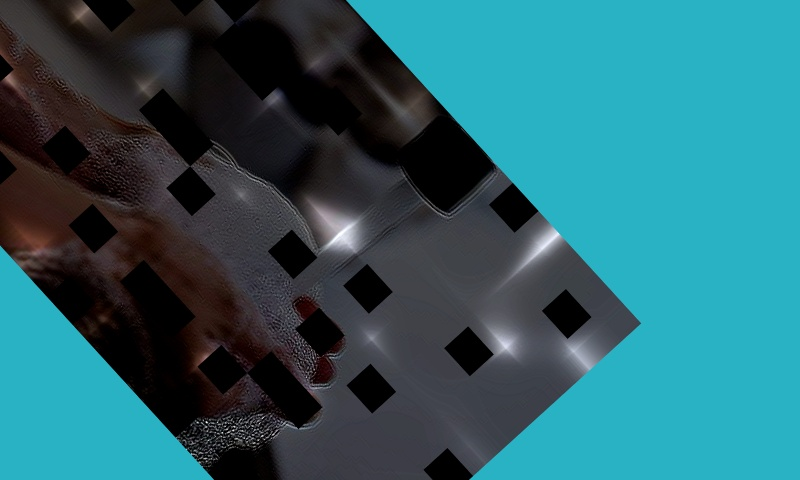washing hand: (24, 25, 540, 479)
